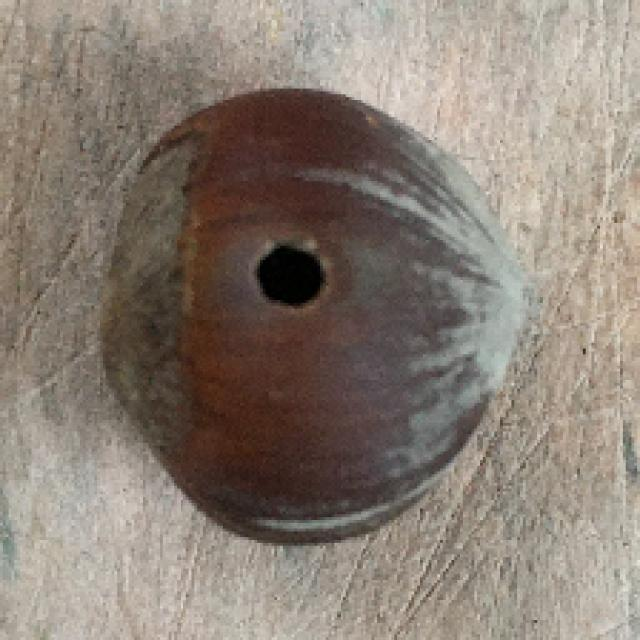damagedHazelnut: (94, 80, 526, 550)
